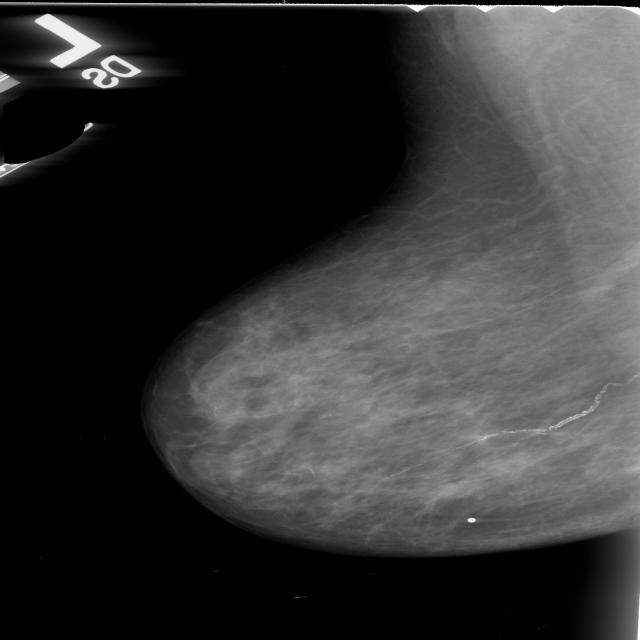normal: (153, 177, 640, 551)
